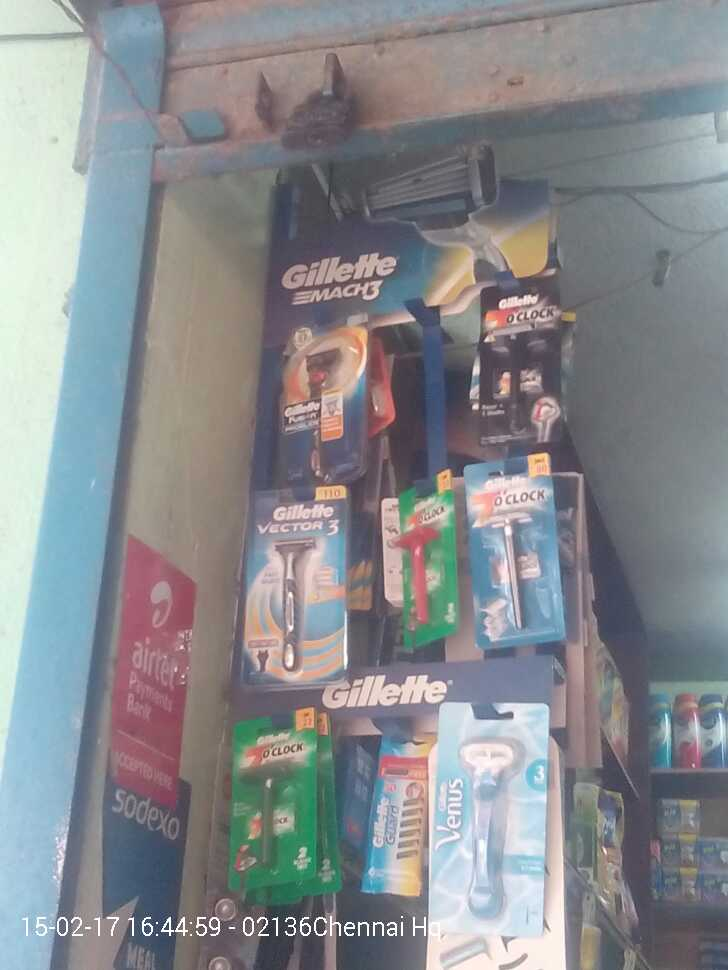beauty: (430, 695, 548, 927), (222, 710, 335, 906), (461, 472, 567, 641), (249, 495, 343, 684), (477, 287, 556, 442), (281, 324, 365, 467), (361, 734, 427, 903), (385, 488, 452, 644)
